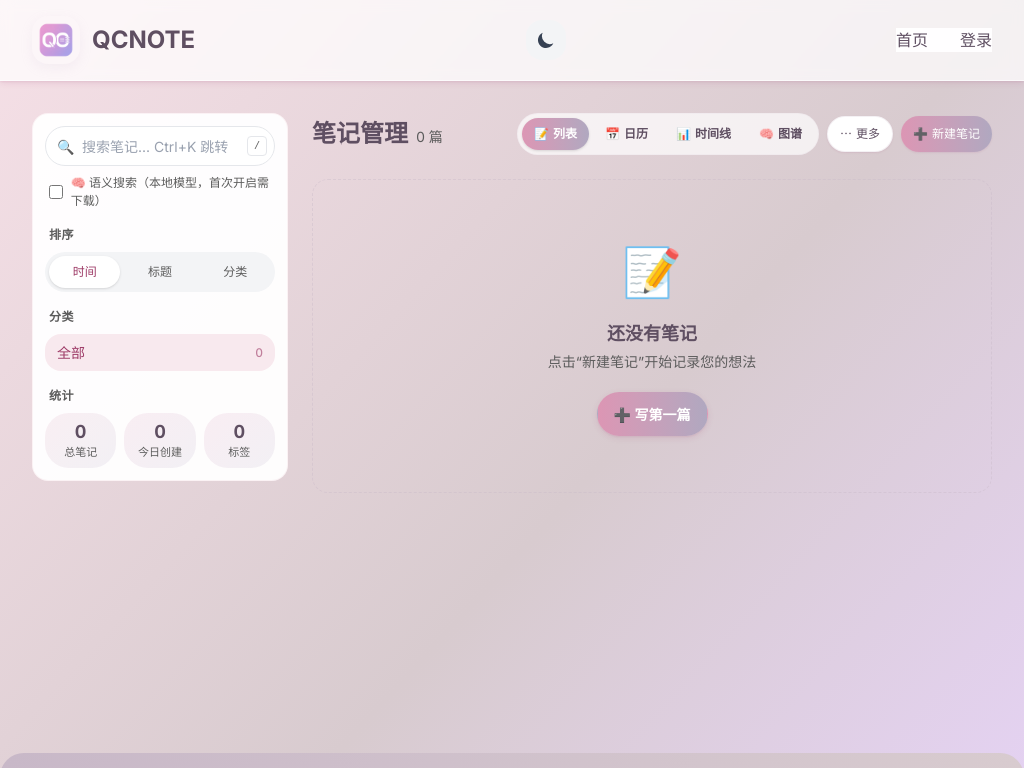
Test: Dashboard 命令面板 › 新建笔记是草稿：保存时才创建 › 点新建不会写入存储；什么都没写就取消，列表保持原样
Check: the heading "笔记管理" is shown, box x1=312 y1=116 x2=408 y2=152
Click the button "➕ 新建笔记".
click(946, 134)  # box x1=901 y1=116 x2=992 y2=152
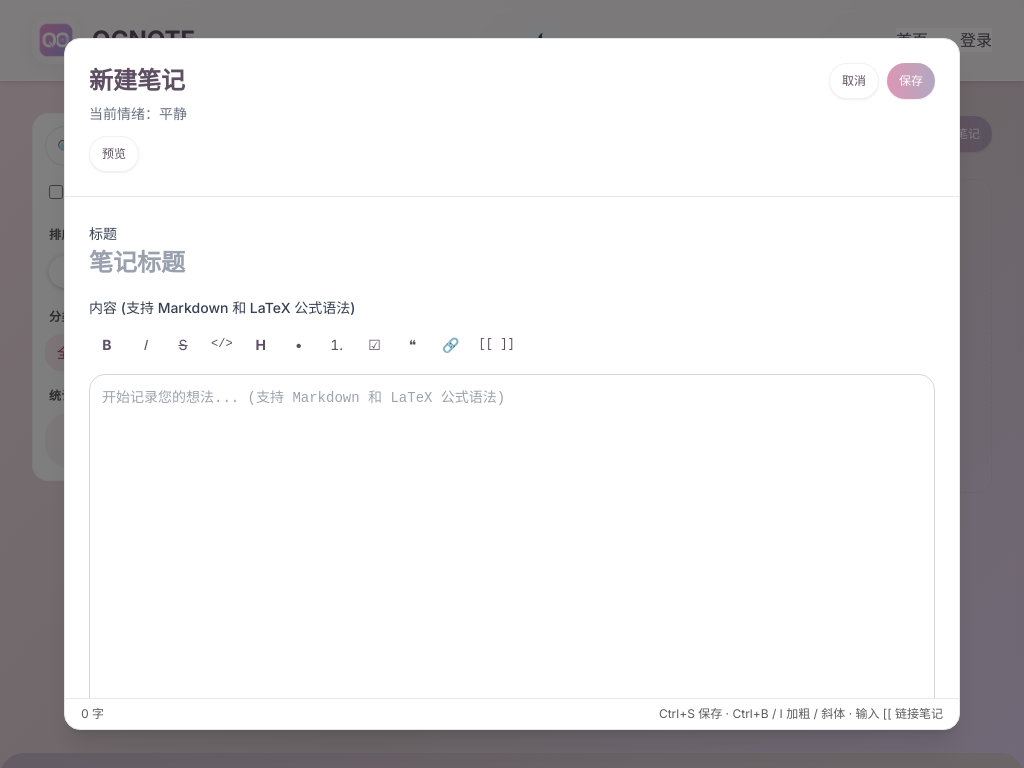
Check: the dialog "新建笔记" is shown
Click the button "取消".
click(854, 81)  # box x1=829 y1=63 x2=879 y2=99
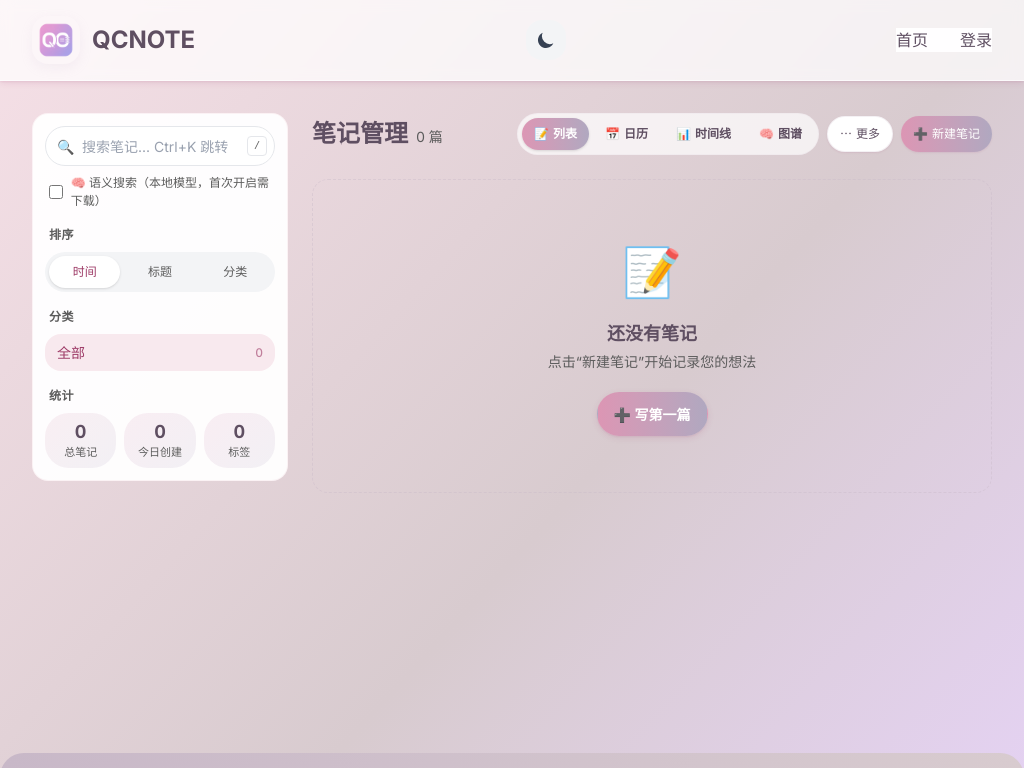
Check: the dialog is gone
